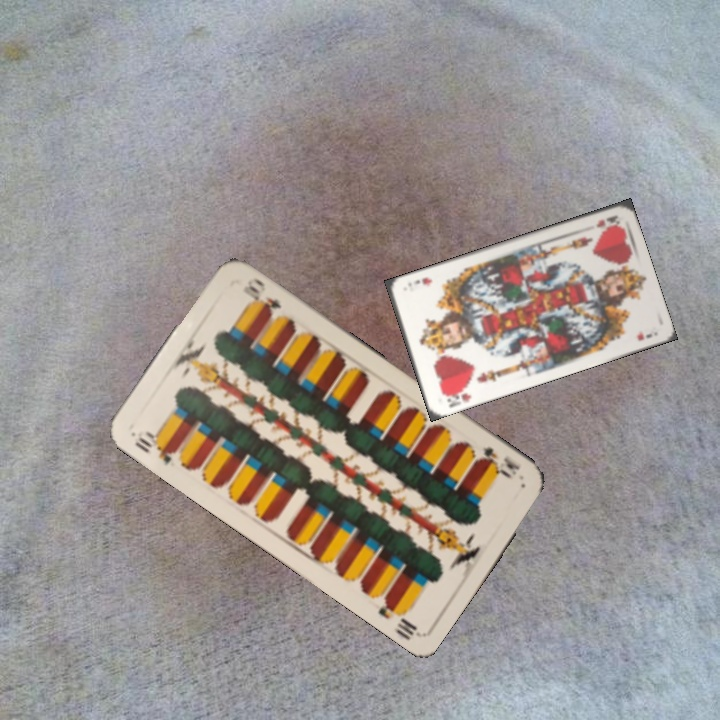E10: (470, 442, 523, 481), (130, 427, 179, 469)
HK: (438, 383, 474, 410), (593, 211, 622, 231)
